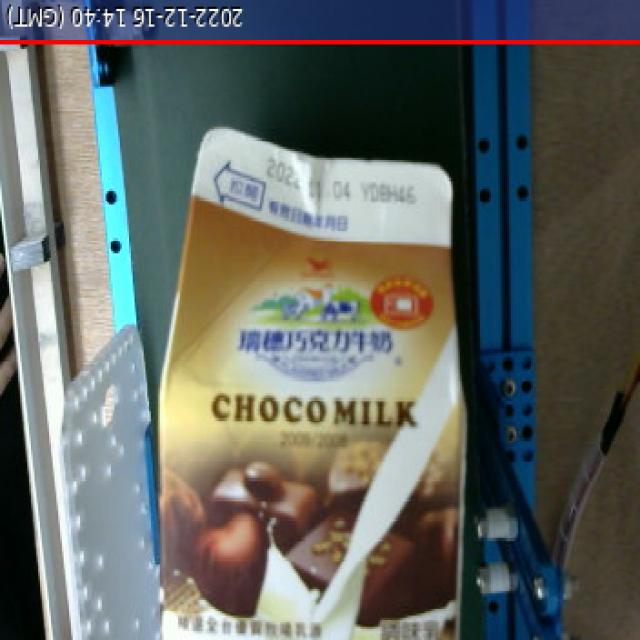non_white_jug: (148, 119, 476, 640)
